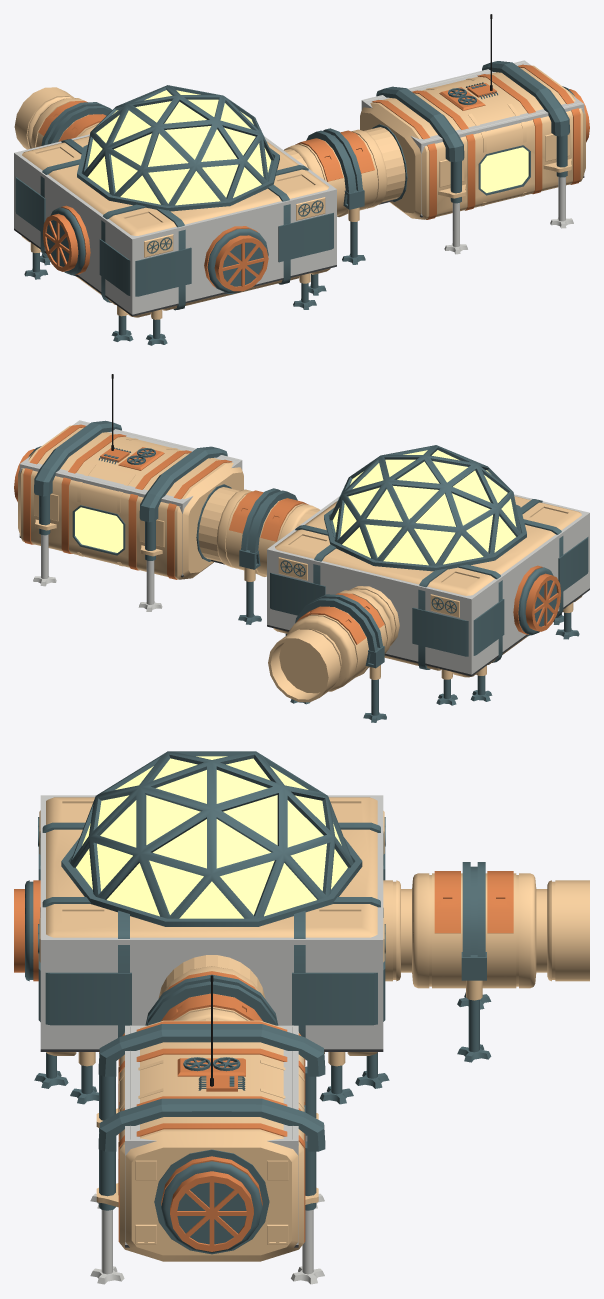
Rendered from colony_hub_wing.fbx.
3 renders of one model, top to bottom at view 1: azimuth 30°, elevation 25°; view 2: azimuth 150°, elevation 25°; view 3: azimuth 270°, elevation 25°, orthographic. The views are drawn at different scales.
Parts seen in each view (by area): view 1: HubWing.H1.Icosphere, HubWing.H1.Liner, HubWing.MA.Cube, HubWing.H1.Cube.001, HubWing.H1.Cube.017, HubWing.MA.Liner, HubWing.MA.Cube.003, HubWing.hubdoor1.Cylinder.008, HubWing.hubdoor0.Cylinder.008, HubWing.T_H1_MA.Cylinder, HubWing.stub2.Cylinder.023, HubWing.T_H1_MA.Liner (+15 smaller); view 2: HubWing.H1.Liner, HubWing.H1.Icosphere, HubWing.MA.Cube, HubWing.H1.Cube.001, HubWing.stub2.Cylinder.023, HubWing.H1.Cube.017, HubWing.MA.Liner, HubWing.MA.Cube.003, HubWing.hubdoor0.Cylinder.008, HubWing.T_H1_MA.Cylinder, HubWing.T_H1_MA.Liner, HubWing.T_H1_MA.Cylinder.001 (+14 smaller); view 3: HubWing.H1.Icosphere, HubWing.H1.Liner, HubWing.MA.Cube, HubWing.stub2.Cylinder.023, HubWing.H1.Cube.001, HubWing.H1.Cube.017, HubWing.MA.Cube.003, HubWing.MA.Cylinder.008, HubWing.MA.Cylinder.007, HubWing.stub2.Cylinder.024, HubWing.MA.Liner, HubWing.T_H1_MA.Cylinder.003 (+16 smaller).
Boxes of the visible parts, bbox=[...] form: HubWing.H1.Icosphere: bbox=[83, 86, 274, 205]; HubWing.H1.Liner: bbox=[14, 85, 336, 316]; HubWing.MA.Cube: bbox=[360, 65, 585, 219]; HubWing.H1.Cube.001: bbox=[22, 136, 330, 345]; HubWing.H1.Cube.017: bbox=[15, 177, 333, 296]; HubWing.MA.Liner: bbox=[361, 60, 584, 217]; HubWing.MA.Cube.003: bbox=[376, 61, 569, 162]; HubWing.hubdoor1.Cylinder.008: bbox=[204, 226, 268, 292]; HubWing.hubdoor0.Cylinder.008: bbox=[43, 205, 90, 275]; HubWing.T_H1_MA.Cylinder: bbox=[284, 129, 387, 217]; HubWing.stub2.Cylinder.023: bbox=[14, 87, 99, 149]; HubWing.T_H1_MA.Liner: bbox=[284, 127, 405, 204]; HubWing.H1.Liner: bbox=[267, 446, 589, 676]; HubWing.H1.Icosphere: bbox=[330, 445, 519, 565]; HubWing.MA.Cube: bbox=[18, 425, 243, 579]; HubWing.H1.Cube.001: bbox=[273, 496, 582, 705]; HubWing.stub2.Cylinder.023: bbox=[268, 586, 399, 702]; HubWing.H1.Cube.017: bbox=[270, 537, 588, 656]; HubWing.MA.Liner: bbox=[19, 420, 242, 577]; HubWing.MA.Cube.003: bbox=[34, 420, 227, 522]; HubWing.hubdoor0.Cylinder.008: bbox=[513, 565, 560, 635]; HubWing.T_H1_MA.Cylinder: bbox=[216, 489, 319, 576]; HubWing.T_H1_MA.Liner: bbox=[198, 487, 319, 564]; HubWing.T_H1_MA.Cylinder.001: bbox=[229, 490, 308, 541]; HubWing.H1.Icosphere: bbox=[70, 751, 351, 918]; HubWing.H1.Liner: bbox=[32, 751, 383, 1051]; HubWing.MA.Cube: bbox=[119, 1020, 304, 1261]; HubWing.stub2.Cylinder.023: bbox=[383, 873, 589, 988]; HubWing.H1.Cube.001: bbox=[34, 797, 389, 1104]; HubWing.H1.Cube.017: bbox=[38, 847, 385, 1025]; HubWing.MA.Cube.003: bbox=[98, 1024, 325, 1151]; HubWing.MA.Cylinder.008: bbox=[161, 1156, 262, 1253]; HubWing.MA.Cylinder.007: bbox=[90, 1141, 324, 1284]; HubWing.stub2.Cylinder.024: bbox=[434, 871, 513, 933]; HubWing.MA.Liner: bbox=[124, 1025, 298, 1247]; HubWing.T_H1_MA.Cylinder.003: bbox=[145, 974, 278, 1025].
Size of the model in its own units: 4237 by 1493 by 2813.
